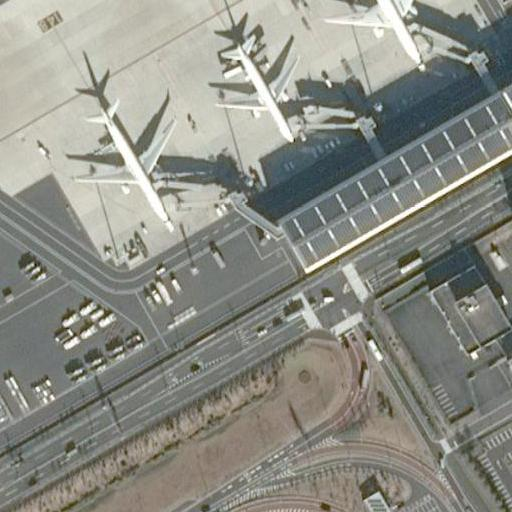Aircraft: (67, 94, 185, 234), (205, 21, 304, 146), (317, 0, 437, 73)
